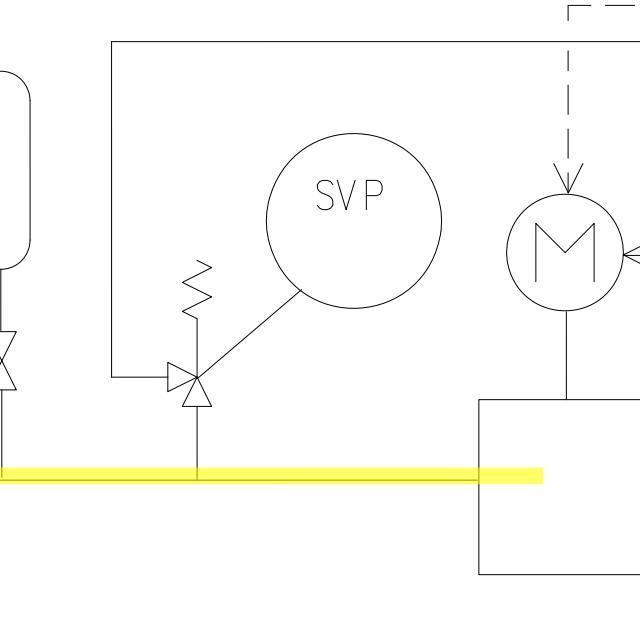M: (500, 188, 625, 315)
RPV: (158, 249, 220, 417)
